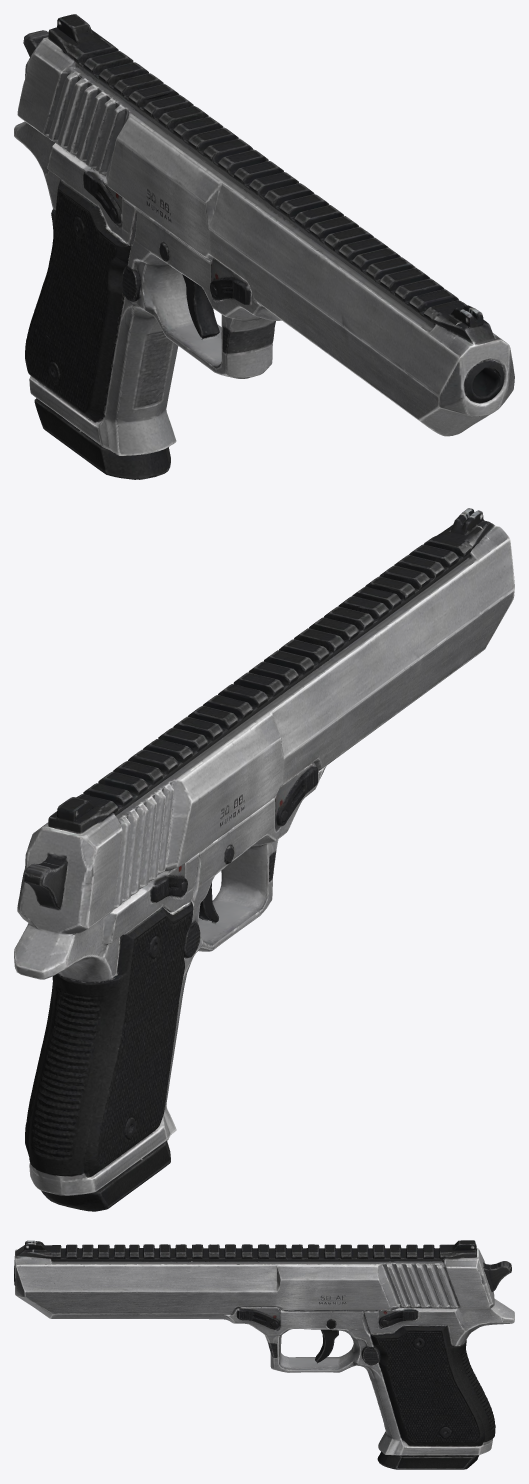
File: desert_eagle.high.glb
3 renders of one model, top to bottom at view 1: azimuth 30°, elevation 25°; view 2: azimuth 150°, elevation 25°; view 3: azimuth 270°, elevation 25°, orthographic. The views are drawn at different scales.
Parts seen in each view (by area): view 1: model; view 2: model; view 3: model.
Part boxes in pixels (x1,y1,x2,y2): model: (14, 14, 514, 479); model: (14, 508, 514, 1211); model: (14, 1240, 514, 1469).
Bounding box in the file's own units: 0.0265 × 0.1315 × 0.27.
Materials: 1 (1 with a texture image).
